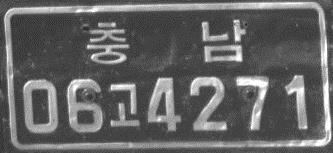0: (20, 76, 61, 134)
1: (280, 70, 310, 133)
2: (188, 73, 231, 134)
4: (144, 76, 185, 133)
6: (63, 76, 105, 134)
7: (233, 72, 271, 134)
고: (107, 79, 139, 128)
충남_D: (84, 15, 246, 66)
